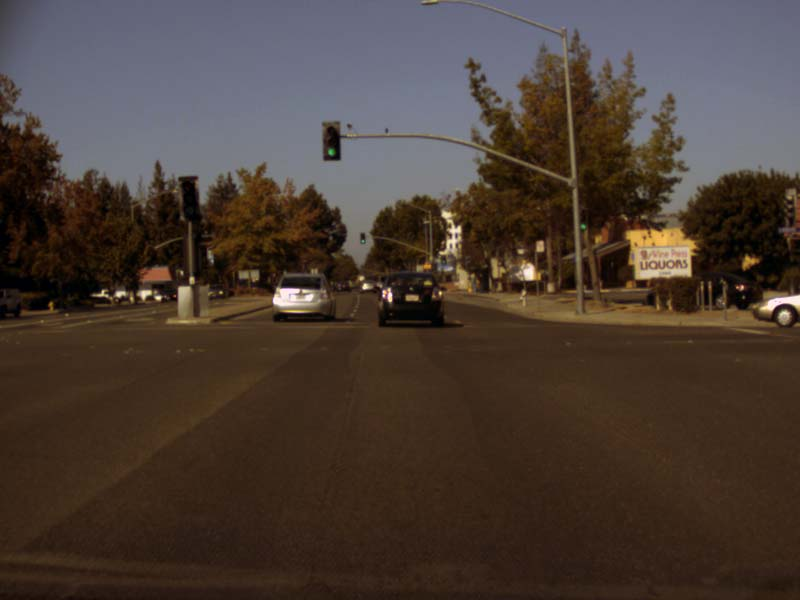Green: (321, 121, 340, 161), (578, 206, 587, 231), (360, 232, 365, 244), (440, 255, 446, 264)
Red: (179, 174, 196, 222)
